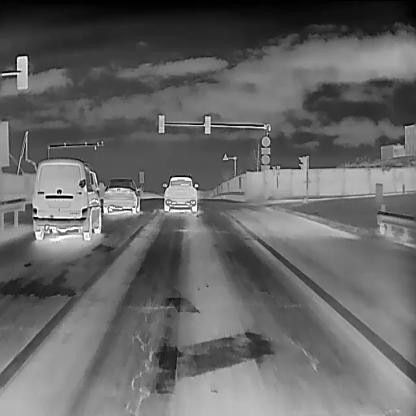car: (31, 156, 104, 240), (162, 174, 198, 212), (103, 177, 140, 213)
